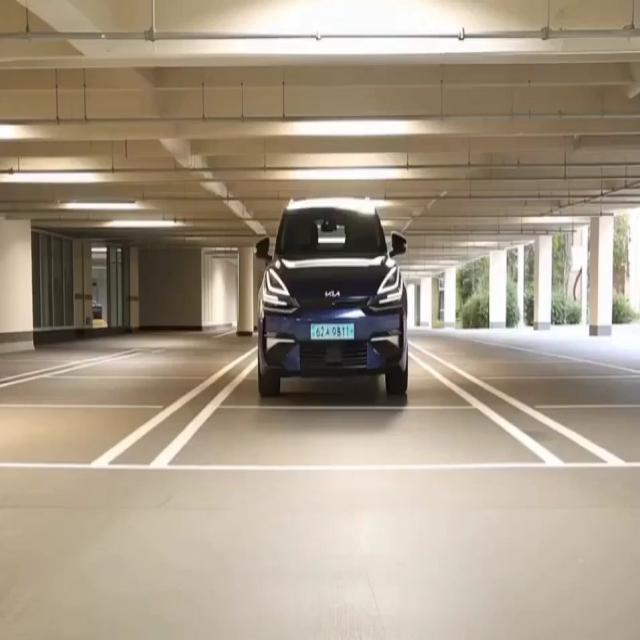car: (312, 322, 355, 342)
carev: (311, 325, 315, 339), (350, 326, 354, 338)
